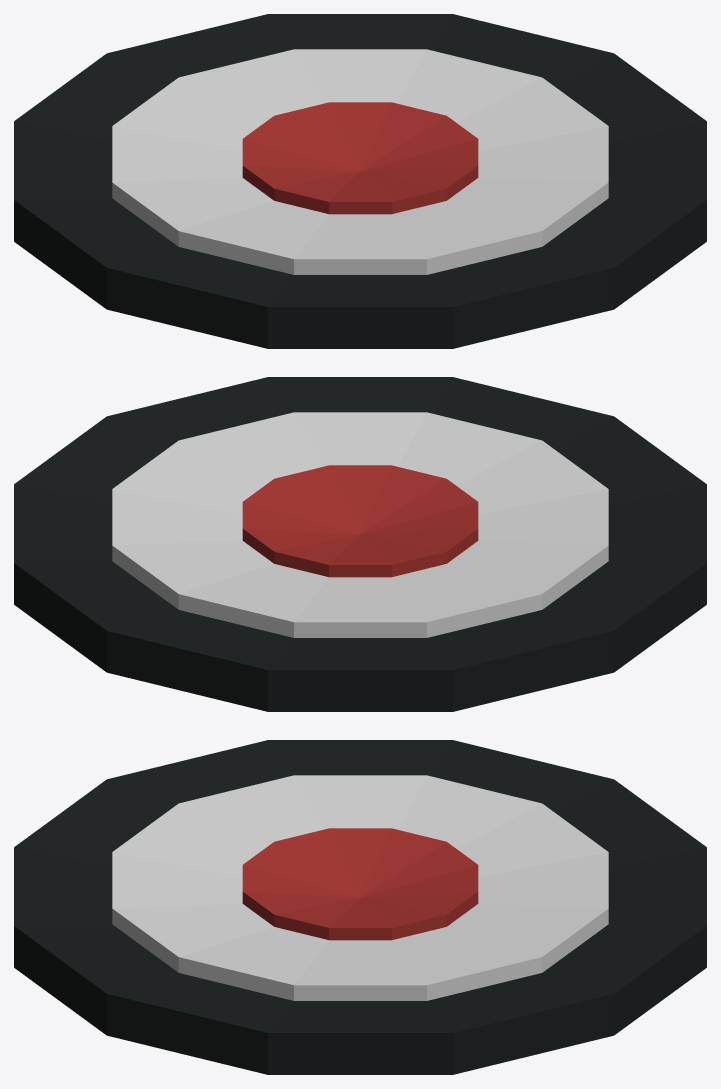
The model's file is target.obj.
3 views of the same model, one above another, from view 1: azimuth 30°, elevation 25°; view 2: azimuth 150°, elevation 25°; view 3: azimuth 270°, elevation 25° (orthographic).
Parts seen in each view (by area): view 1: cylinder; view 2: cylinder; view 3: cylinder.
Boxes of the visible parts, x1=… form: cylinder: x1=14, y1=14, x2=706, y2=348; cylinder: x1=14, y1=377, x2=706, y2=711; cylinder: x1=14, y1=740, x2=706, y2=1074.
Size of the model in its own units: 0.9375 by 0.075 by 0.9375.
3 materials, 3 textured.
